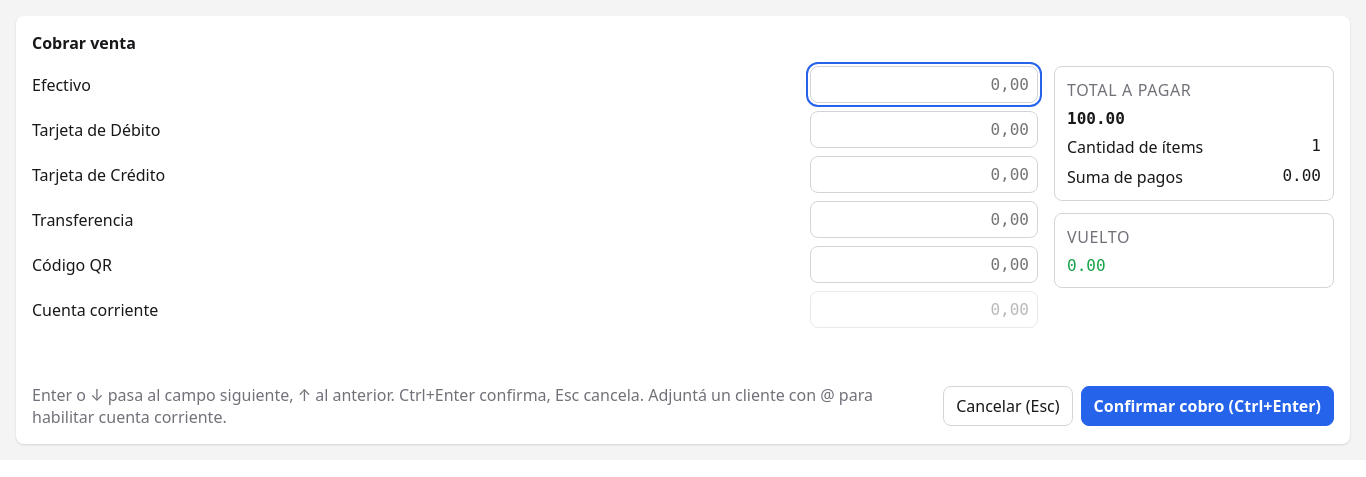
Scenario: CheckoutScreen › Ctrl+Enter con un monto inválido muestra un error
Type "abc" into the field labelled "Efectivo". click: (924, 84)
box: [810,66,1038,103]
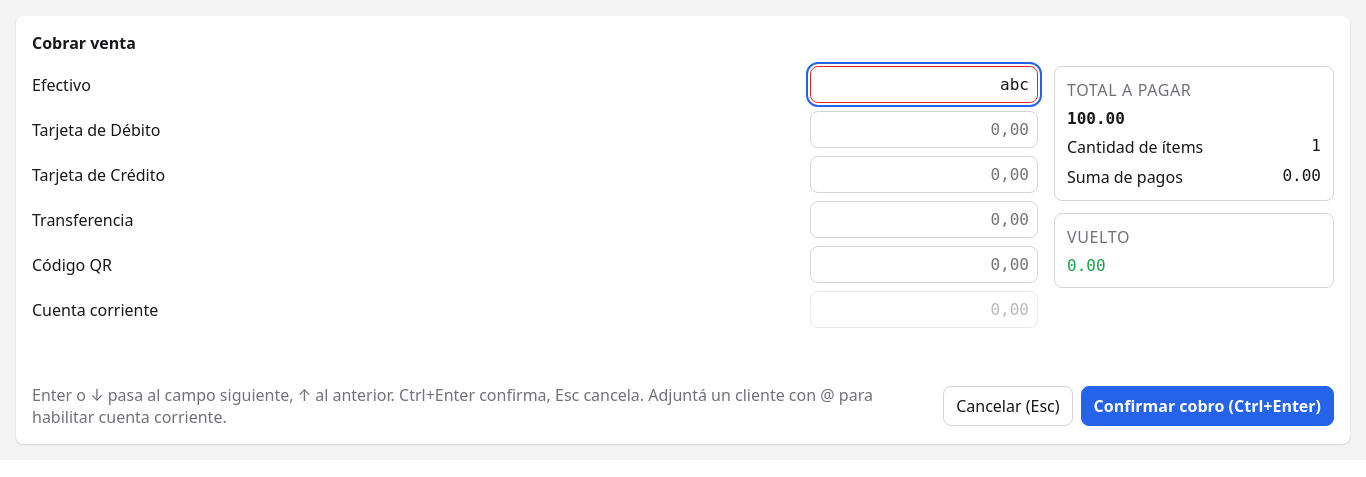
Press Enter in the field labelled "Efectivo", box [810,66,1038,103]
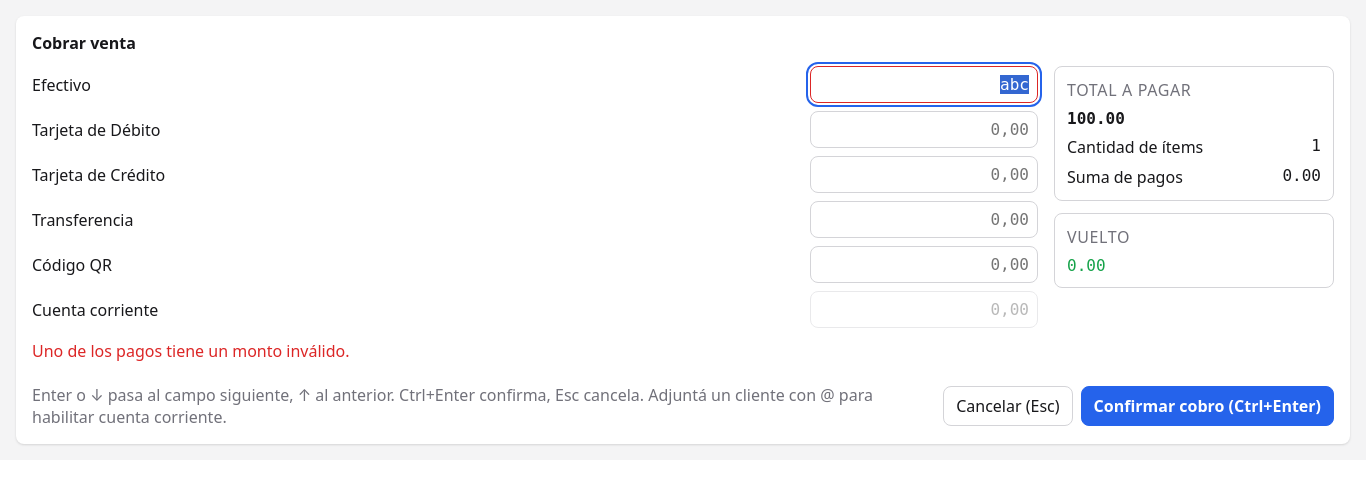
Expected: the message "Uno de los pagos tiene un monto inválido." is shown, [32,340,350,362]
